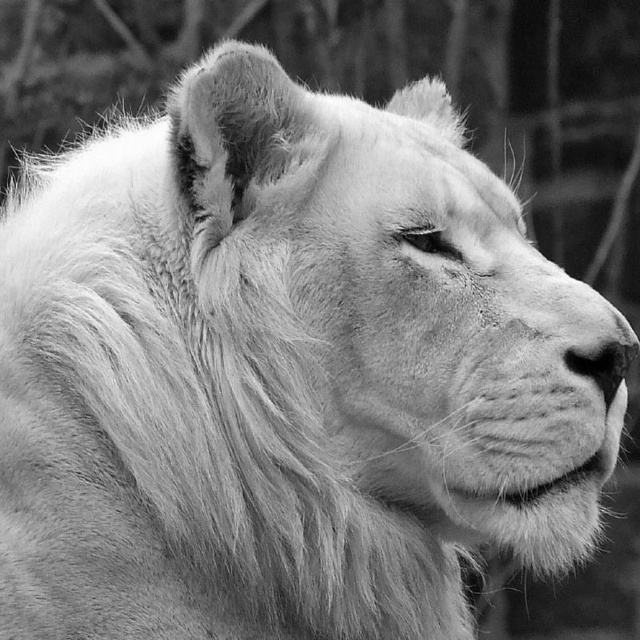Lion: (0, 34, 639, 639)
